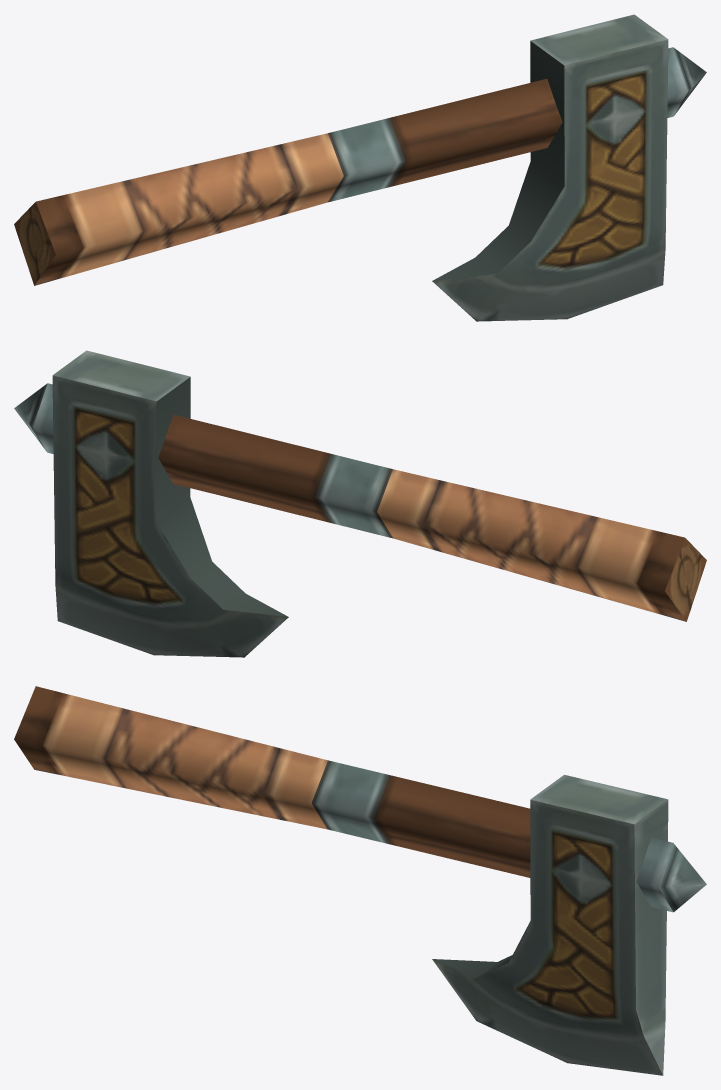
The model's file is DWF_Weapon_axe_B.FBX.
The picture shows the model from 3 angles, top to bottom: view 1: azimuth 30°, elevation 25°; view 2: azimuth 150°, elevation 25°; view 3: azimuth 330°, elevation 25°; orthographic projection.
Parts seen in each view (by area): view 1: DWF_Weapon_axe_B; view 2: DWF_Weapon_axe_B; view 3: DWF_Weapon_axe_B.
Boxes of the visible parts, x1,y1,x2,y2 form: DWF_Weapon_axe_B: [14, 14, 706, 321]; DWF_Weapon_axe_B: [14, 350, 706, 657]; DWF_Weapon_axe_B: [14, 686, 706, 1075].
Bounding box in the file's own units: 39.03 × 15.07 × 4.23.
1 material, 1 textured.
